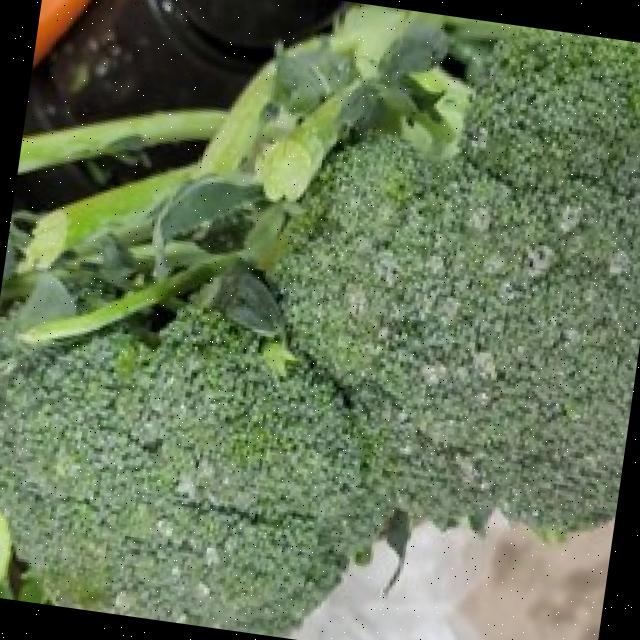Broccoli: (0, 29, 640, 636), (0, 30, 640, 636)
